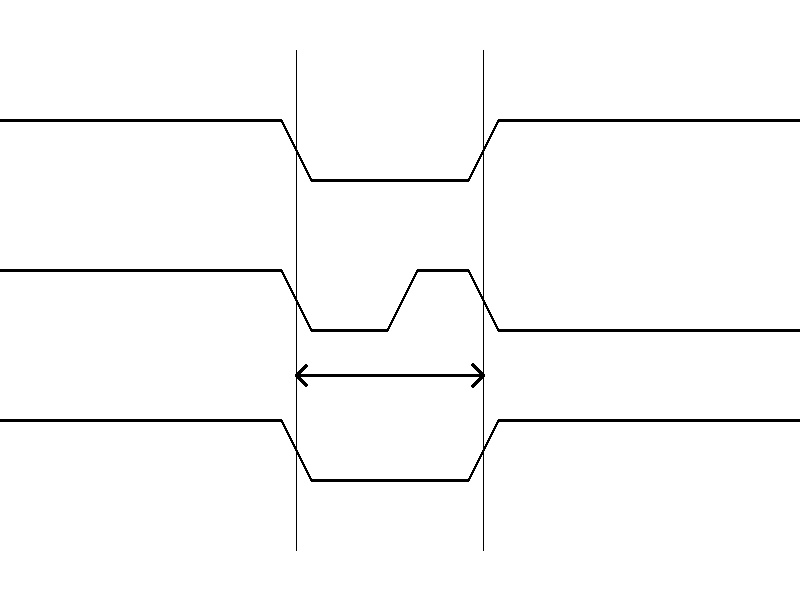double_arrow: (296, 360, 483, 390)
